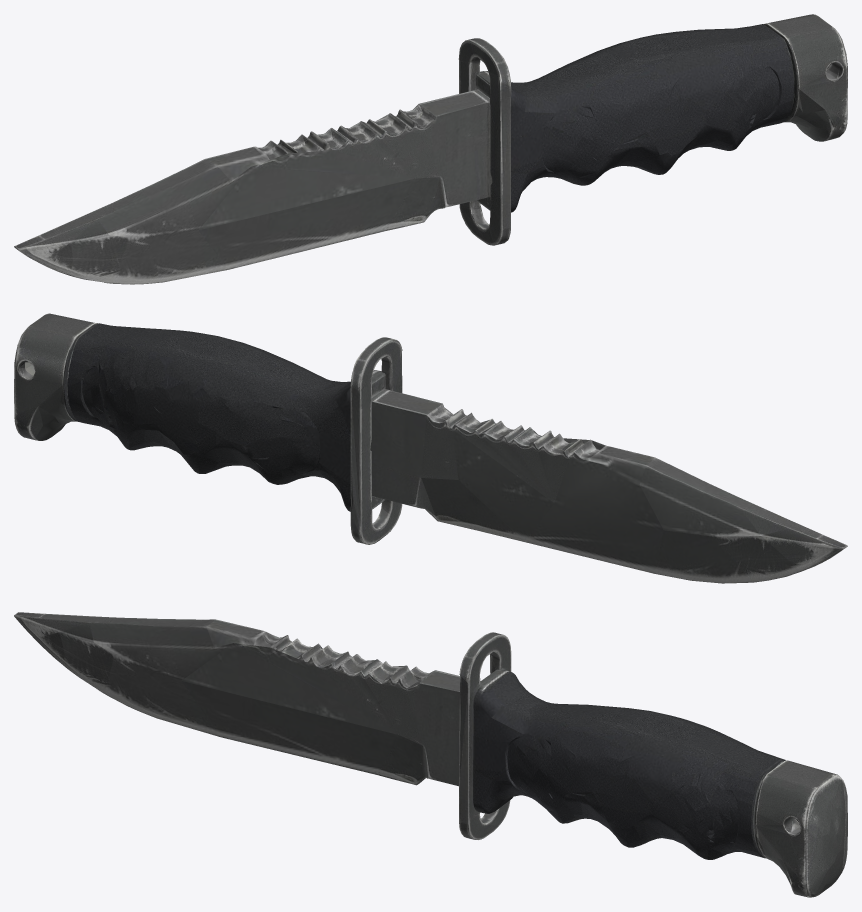
The model's file is knife.glb.
The picture shows the model from 3 angles, top to bottom: view 1: azimuth 30°, elevation 25°; view 2: azimuth 150°, elevation 25°; view 3: azimuth 330°, elevation 25°; orthographic projection.
Visible parts, largest first — view 1: Mesh_0; view 2: Mesh_0; view 3: Mesh_0.
Part boxes in pixels (x1,y1,x2,y2): Mesh_0: [14, 14, 847, 284]; Mesh_0: [14, 313, 847, 583]; Mesh_0: [14, 612, 847, 897].
Bounding box in the file's own units: 1.9 × 0.4306 × 0.2233.
1 material, 1 textured.
